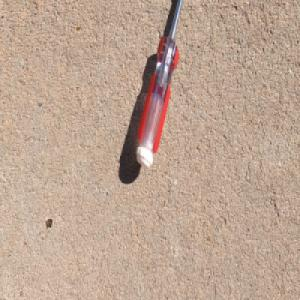Screwdriver: (134, 0, 184, 170)
